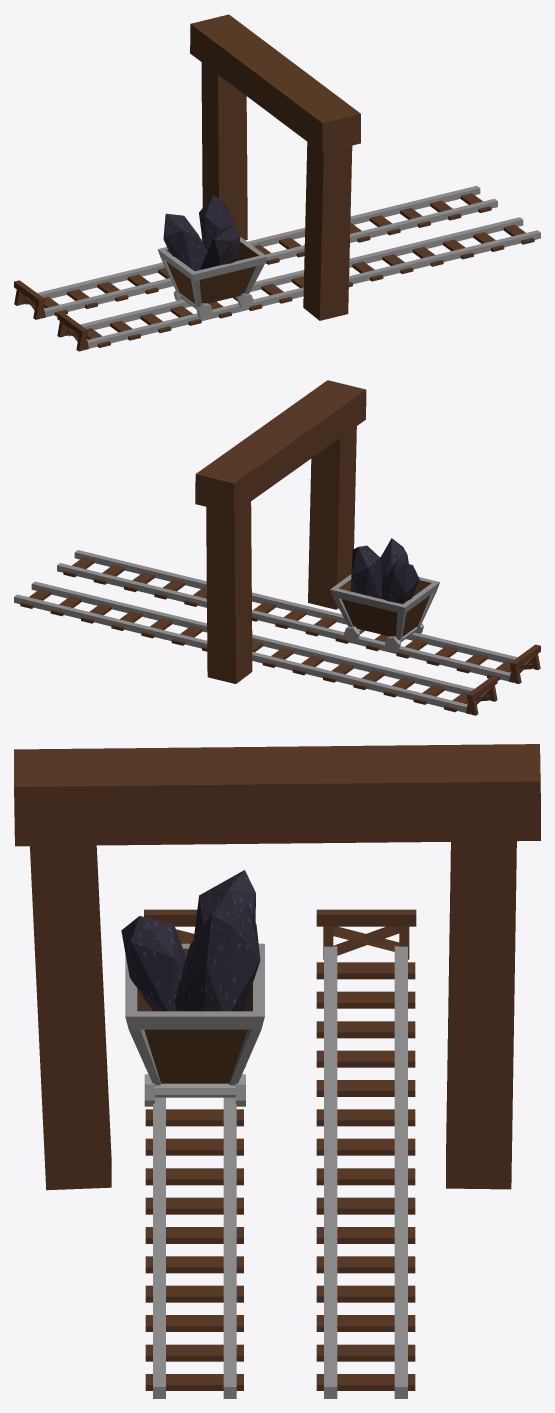
Rendered from Mine.fbx.
3 views of the same model, one above another, from view 1: azimuth 30°, elevation 25°; view 2: azimuth 150°, elevation 25°; view 3: azimuth 270°, elevation 25° (orthographic). The views are drawn at different scales.
Parts seen in each view (by area): view 1: Mine; view 2: Mine; view 3: Mine.
Boxes of the visible parts, x1,y1,x2,y2 form: Mine: [14, 14, 540, 351]; Mine: [14, 380, 540, 715]; Mine: [14, 744, 540, 1398].
Bounding box in the file's own units: 64896 × 27848 × 32177.
